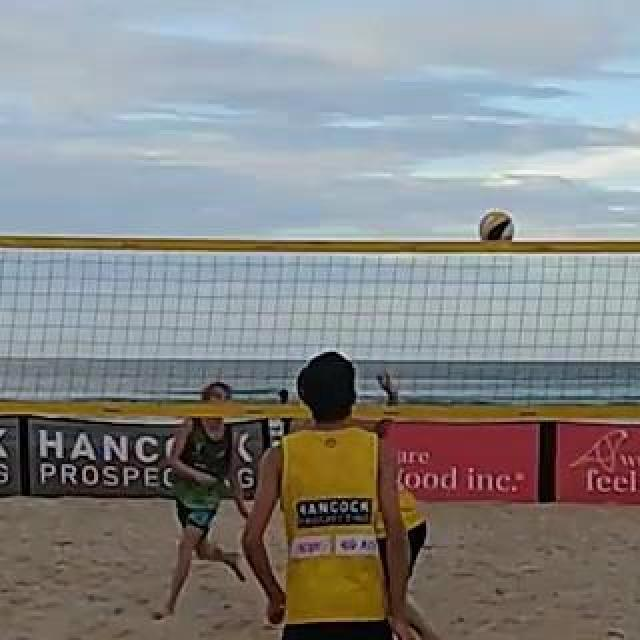volleyball: (480, 210, 516, 244)
